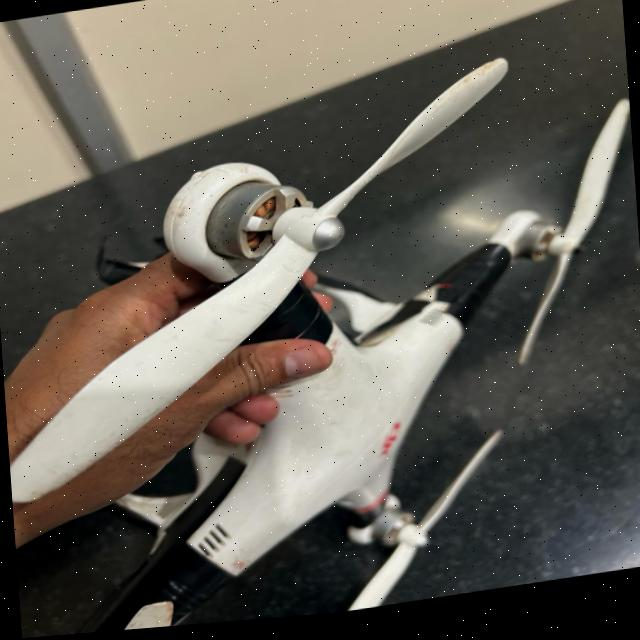drone: (0, 42, 640, 640)
